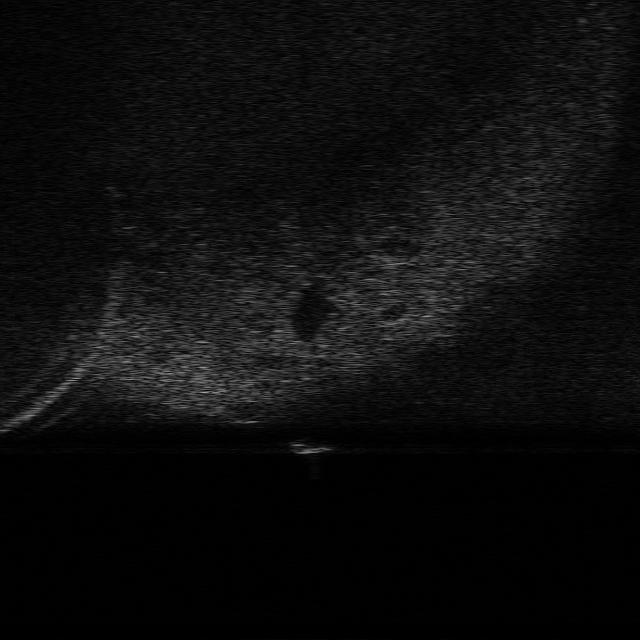cube: (286, 435, 332, 456)
